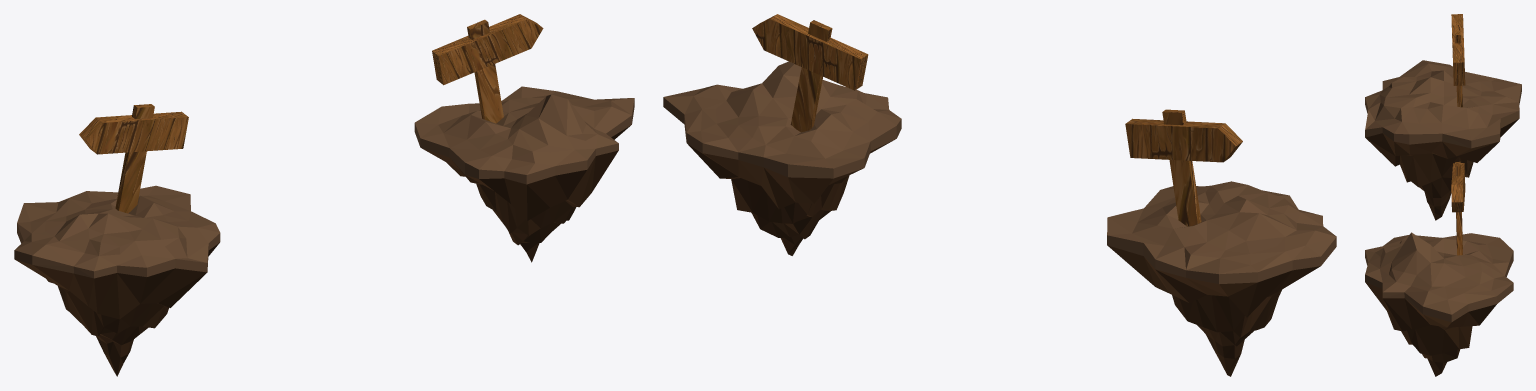
Rendered from islands_navigation.fbx.
3 renders of one model, left to right at view 1: azimuth 30°, elevation 25°; view 2: azimuth 150°, elevation 25°; view 3: azimuth 270°, elevation 25°, orthographic. The views are drawn at different scales.
Parts seen in each view (by area): view 1: SM_UI_R_Navigation, SM_UI_L_Navigation; view 2: SM_UI_R_Navigation, SM_UI_L_Navigation; view 3: SM_UI_R_Navigation, SM_UI_L_Navigation.
Boxes of the visible parts, <box> form: SM_UI_R_Navigation: <box>14,104,220,376</box>; SM_UI_L_Navigation: <box>414,14,634,262</box>; SM_UI_R_Navigation: <box>1107,109,1336,376</box>; SM_UI_L_Navigation: <box>663,14,901,255</box>; SM_UI_R_Navigation: <box>1365,14,1521,220</box>; SM_UI_L_Navigation: <box>1365,161,1513,376</box>.
Bounding box in the file's own units: 2714 × 719 × 1056.
